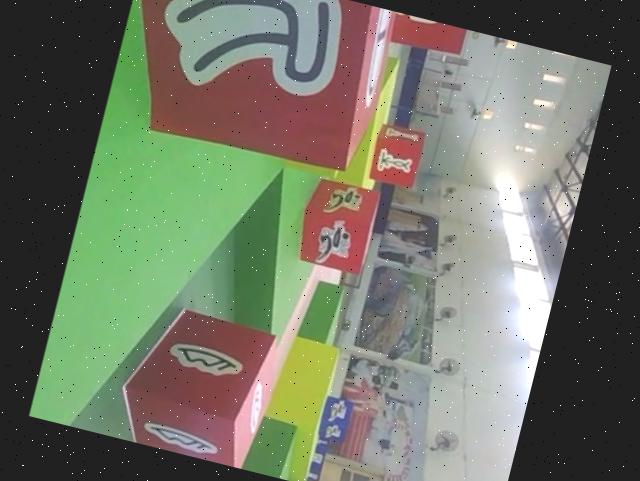R1: (292, 174, 384, 275)
R2 Fake: (102, 0, 402, 181)
R2 Real: (110, 298, 286, 471), (365, 119, 431, 192), (383, 10, 472, 60)
